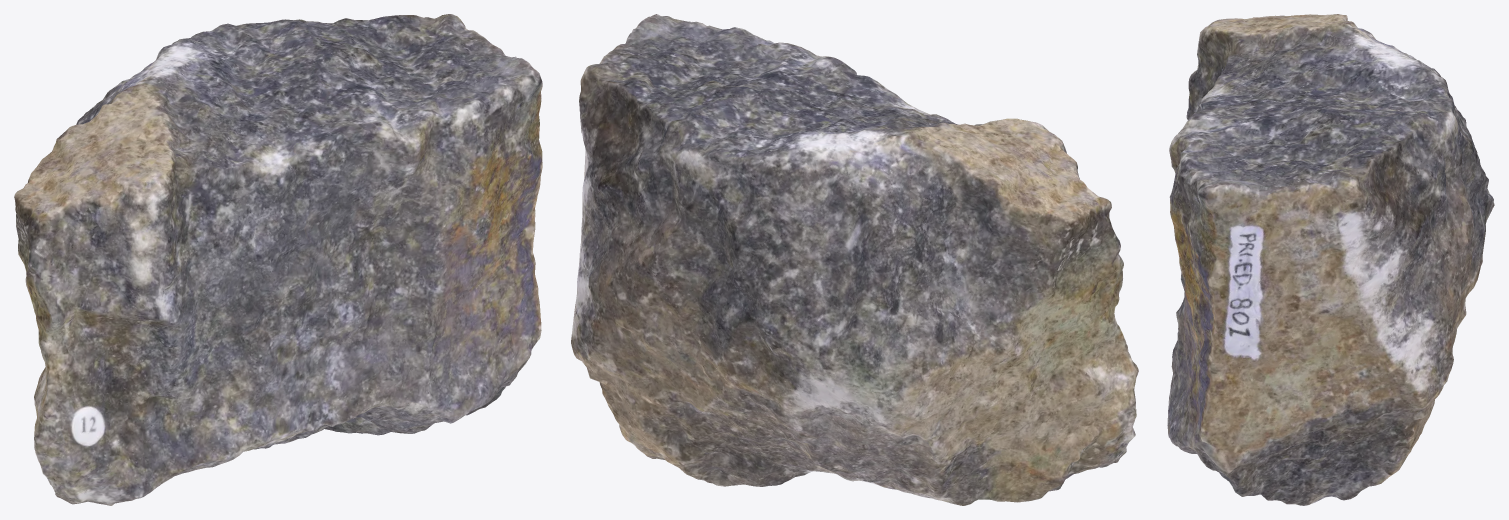
File: pyroxene.glb
The picture shows the model from 3 angles, left to right: view 1: azimuth 30°, elevation 25°; view 2: azimuth 150°, elevation 25°; view 3: azimuth 270°, elevation 25°; orthographic projection. The views are drawn at different scales.
Parts seen in each view (by area): view 1: Object_2; view 2: Object_2; view 3: Object_2.
Part boxes in pixels (bbox=[...]): Object_2: bbox=[14, 14, 542, 505]; Object_2: bbox=[571, 14, 1138, 505]; Object_2: bbox=[1167, 14, 1494, 505].
Size of the model in its own units: 1.56 by 1.17 by 0.9319.
Materials: 1 (1 with a texture image).
